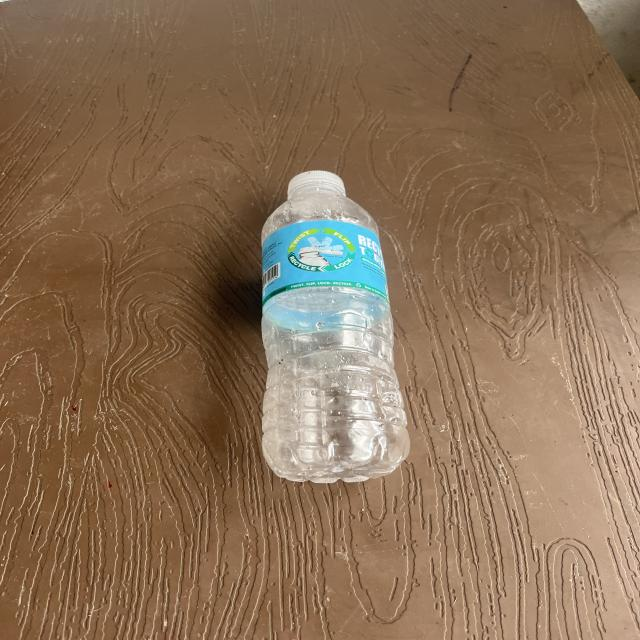REJECT: (219, 138, 426, 502)
